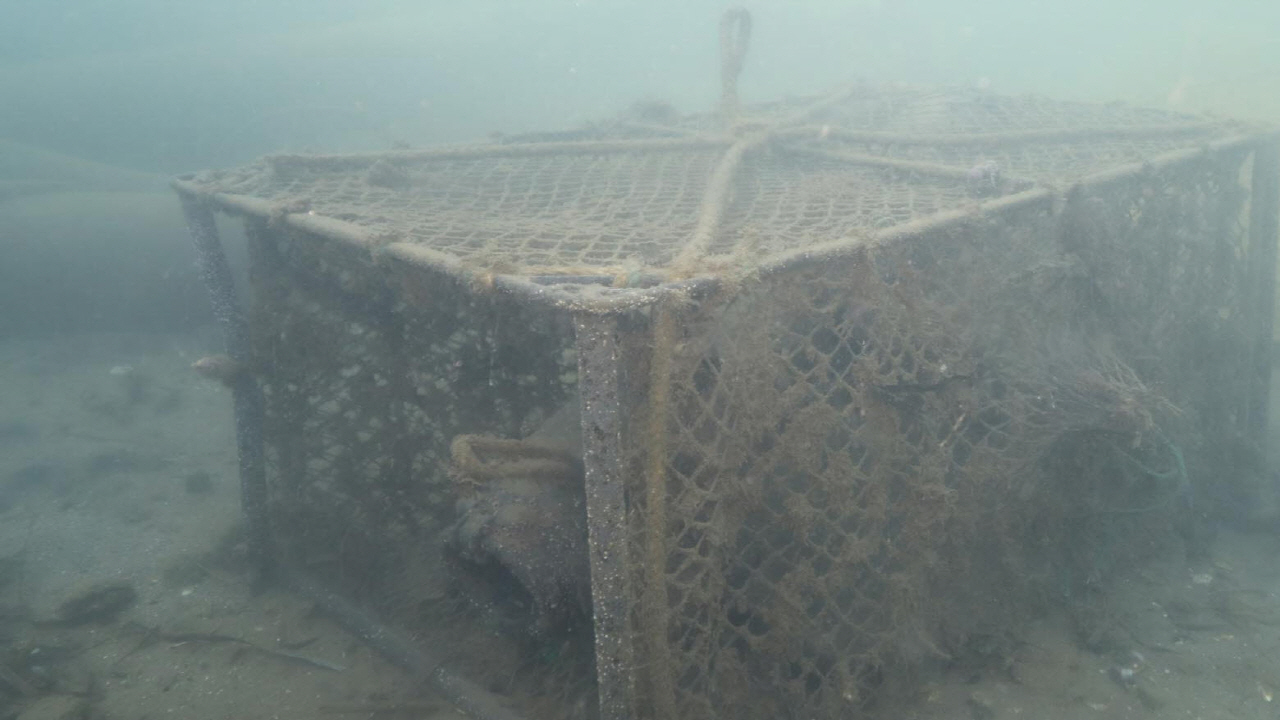bundle of ropes: (720, 8, 751, 122)
rectangular fish trap: (168, 76, 1279, 719)
rope: (447, 431, 584, 482)
